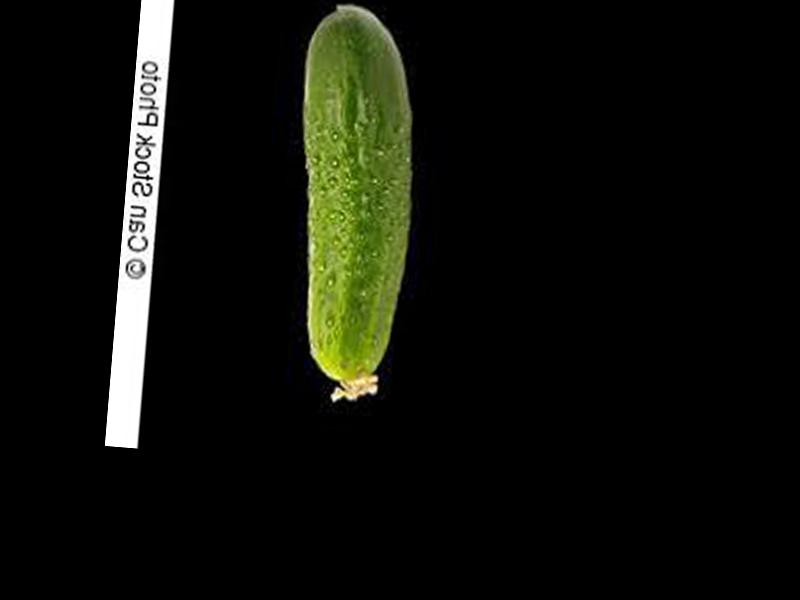Cucumber: (279, 1, 427, 407)
